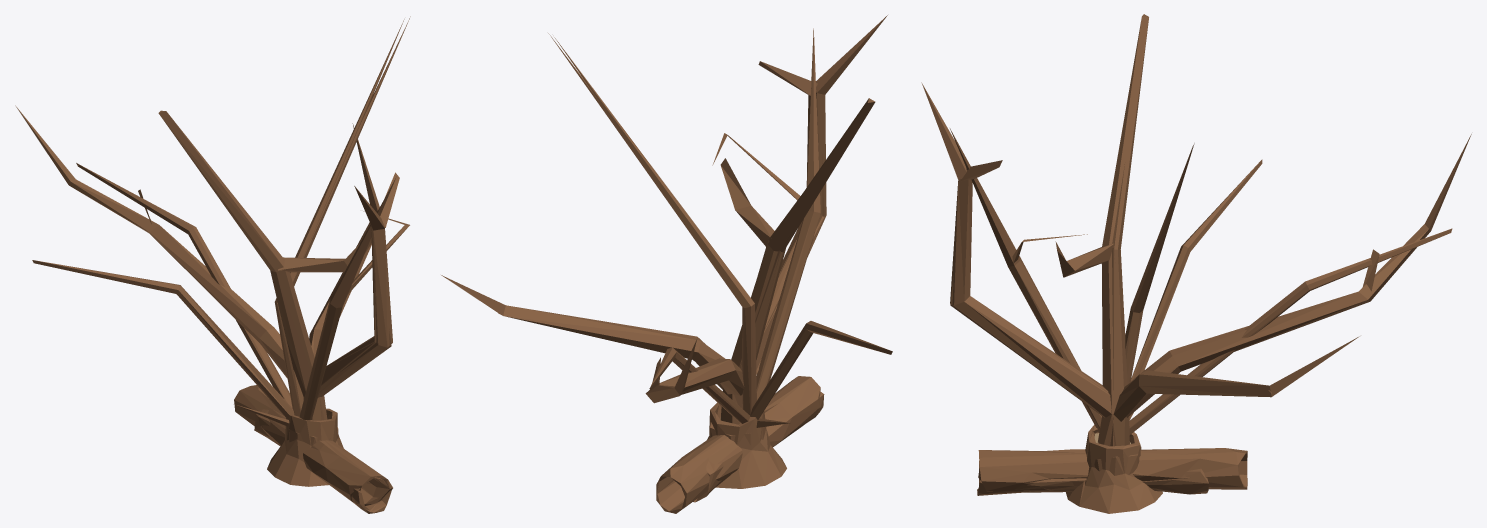
The model's file is Trunks.fbx.
The picture shows the model from 3 angles, left to right: view 1: azimuth 30°, elevation 25°; view 2: azimuth 150°, elevation 25°; view 3: azimuth 270°, elevation 25°; orthographic projection. The views are drawn at different scales.
Parts seen in each view (by area): view 1: Trunk_05, Trunk_06, Trunk_01, Trunk_08, Trunk_09, Trunk_04, Trunk_02; view 2: Trunk_05, Trunk_06, Trunk_01, Trunk_09, Trunk_08, Trunk_04, Trunk_02; view 3: Trunk_05, Trunk_01, Trunk_06, Trunk_08, Trunk_09, Trunk_04, Trunk_02.
Boxes of the visible parts, box(x1,y1,x2,y2) form: Trunk_05: box(15, 105, 399, 420); Trunk_06: box(32, 19, 409, 420); Trunk_01: box(234, 385, 392, 505); Trunk_08: box(76, 16, 410, 416); Trunk_09: box(270, 123, 391, 420); Trunk_04: box(267, 408, 343, 486); Trunk_02: box(254, 409, 391, 513); Trunk_05: box(645, 15, 887, 423); Trunk_06: box(554, 28, 892, 420); Trunk_01: box(656, 376, 820, 513); Trunk_09: box(441, 154, 824, 424); Trunk_08: box(548, 33, 756, 423); Trunk_04: box(707, 402, 786, 488); Trunk_02: box(693, 391, 824, 502); Trunk_05: box(921, 14, 1471, 446); Trunk_01: box(978, 448, 1247, 492); Trunk_06: box(950, 128, 1262, 432); Trunk_08: box(1125, 145, 1452, 434); Trunk_09: box(950, 164, 1359, 446); Trunk_04: box(1066, 424, 1162, 513); Trunk_02: box(977, 461, 1208, 495).
Bounding box in the file's own units: 340 × 349 × 413.
Materials: 2 (2 with a texture image).
